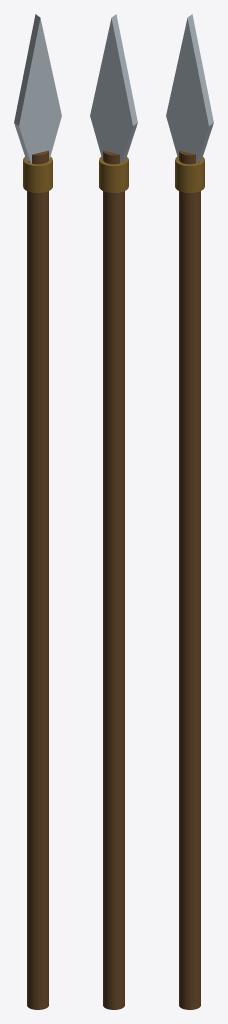
The model's file is spear.glb.
3 renders of one model, left to right at view 1: azimuth 30°, elevation 25°; view 2: azimuth 150°, elevation 25°; view 3: azimuth 330°, elevation 25°, orthographic.
Parts seen in each view (by area): view 1: sp_shaft, sp_head, sp_collar; view 2: sp_shaft, sp_head, sp_collar; view 3: sp_shaft, sp_head, sp_collar.
Boxes of the visible parts, left/top/right/bottom form: sp_shaft: left=27, top=150, right=48, bottom=1009; sp_head: left=14, top=14, right=61, bottom=163; sp_collar: left=23, top=156, right=52, bottom=192; sp_shaft: left=103, top=150, right=124, bottom=1009; sp_head: left=90, top=14, right=137, bottom=163; sp_collar: left=99, top=156, right=128, bottom=192; sp_shaft: left=179, top=150, right=200, bottom=1009; sp_head: left=166, top=14, right=213, bottom=163; sp_collar: left=175, top=156, right=204, bottom=192.
Bounding box in the file's own units: 0.1 × 2.2 × 0.06.
